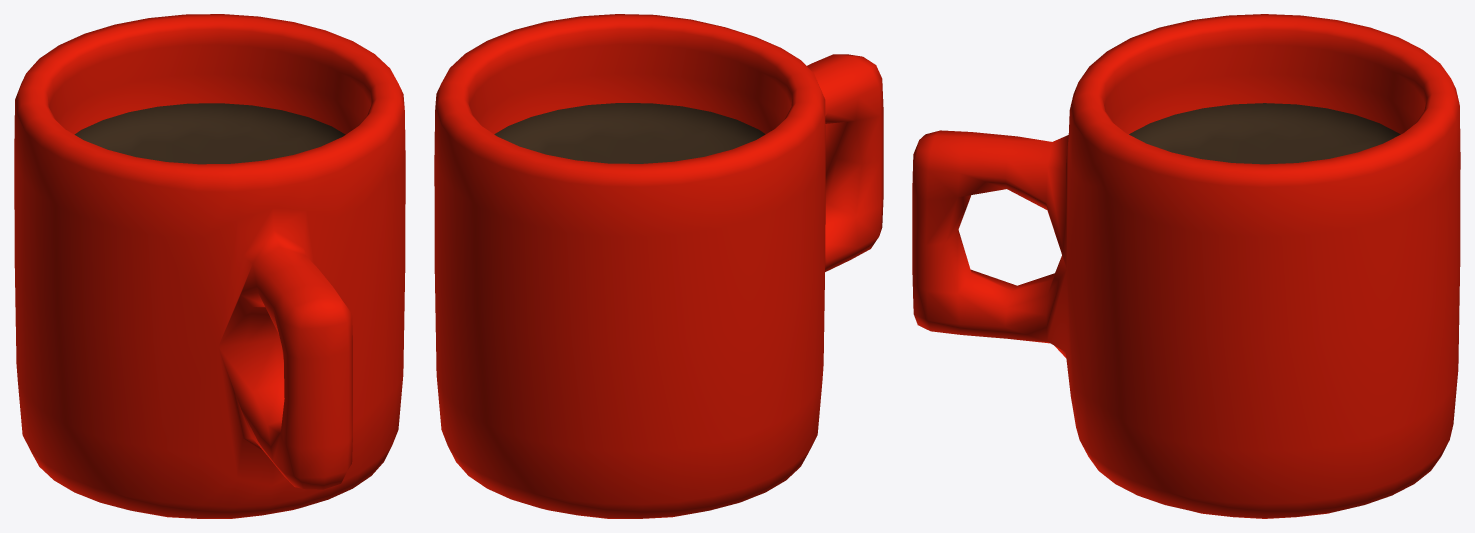
Rendered from CoffeeMug.fbx.
The picture shows the model from 3 angles, left to right: view 1: azimuth 30°, elevation 25°; view 2: azimuth 150°, elevation 25°; view 3: azimuth 270°, elevation 25°; orthographic projection.
Parts seen in each view (by area): view 1: CoffeeMug; view 2: CoffeeMug; view 3: CoffeeMug.
Boxes of the visible parts, left/top/right/bottom form: CoffeeMug: left=14, top=14, right=405, bottom=518; CoffeeMug: left=434, top=14, right=883, bottom=518; CoffeeMug: left=912, top=14, right=1460, bottom=518.
Size of the model in its own units: 68.37 by 69.99 by 95.73.
